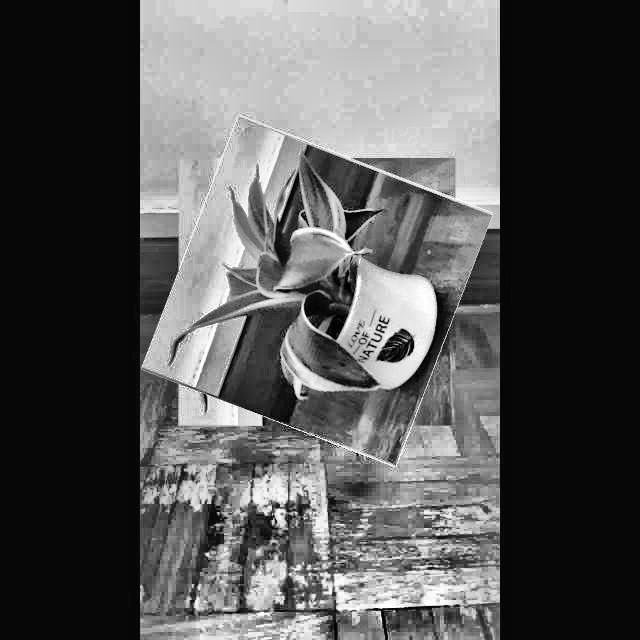plants: (160, 136, 474, 448)
